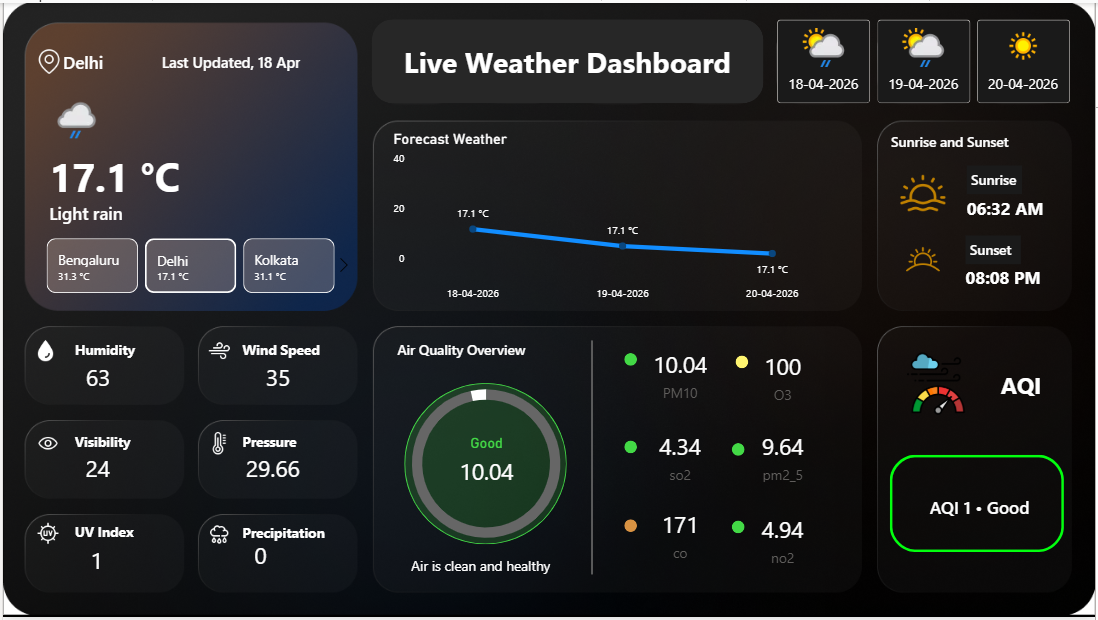

Layout of this report page (visuals, bound fields, positions):
{"tool":"powerbi","page":{"name":"Page 1","canvas":[1280,720],"ordinal":0},"visuals":[{"type":"shape","box":[470.1,445.4,190.5,189.1],"z":0},{"type":"advancedSlicerVisual","fields":{"Values":["Locations.location.name"]},"box":[26.1,270.3,388.3,74.1],"z":1000},{"type":"shape","box":[54.3,158,200.3,88.1],"z":2000},{"type":"shape","box":[54.3,232.8,200.3,26.5],"z":3000},{"type":"shape","box":[70,53.5,100.2,28.8],"z":4000},{"type":"image","box":[38.4,54.9,31.6,28.8],"z":5000},{"type":"shape","box":[186.6,54.9,197.6,30.2],"z":6000},{"type":"multiRowCard","fields":{"Values":["current.current.condition.icon"]},"box":[54.3,98.9,84.5,80.8],"z":7000},{"type":"image","box":[37,391,26.1,32.9],"z":8000},{"type":"textbox","box":[79.6,389.7,150.9,34.3],"z":9000},{"type":"image","box":[40,500,26.1,32.9],"z":10000},{"type":"textbox","box":[79.6,498.1,150.9,34.3],"z":11000},{"type":"image","box":[40,605,26.1,32.9],"z":12000},{"type":"textbox","box":[79.6,603.8,150.9,34.3],"z":13000},{"type":"image","box":[240,391,26.1,32.9],"z":14000},{"type":"textbox","box":[275.8,389.7,150.9,34.3],"z":15000},{"type":"image","box":[240,500,26.1,32.9],"z":16000},{"type":"textbox","box":[275.8,498.1,150.9,34.3],"z":17000},{"type":"image","box":[240,607,26.1,32.9],"z":18000},{"type":"textbox","box":[275.8,605.1,150.9,34.3],"z":19000},{"type":"card","fields":{"Values":["Sum(current.current.humidity)"]},"box":[49.4,410,123.5,59],"z":20000},{"type":"card","fields":{"Values":["Sum(current.current.wind_kph)"]},"box":[260.7,410.3,123.5,59],"z":21000},{"type":"card","fields":{"Values":["Sum(current.current.vis_km)"]},"box":[50.2,516.6,122.9,59.5],"z":22000},{"type":"card","fields":{"Values":["Sum(current.current.pressure_in)"]},"box":[255,516.6,122.9,59.5],"z":23000},{"type":"card","fields":{"Values":["Sum(current.current.uv)"]},"box":[48.9,623.6,122.9,59.5],"z":24000},{"type":"card","fields":{"Values":["Sum(current.current.precip_mm)"]},"box":[240.1,618.9,123.1,59.1],"z":25000},{"type":"advancedSlicerVisual","fields":{"Values":["forecast_day.Day_Name"]},"box":[901.8,15.1,353.6,108.3],"z":26000},{"type":"lineChart","title":"Forecast Weather","fields":{"Y":["Sum(forecast_day.forecast.forecastday.day.avgtemp_c)"],"Category":["forecast_day.Day_Name"]},"box":[452.4,150,524.2,209.5],"z":27000},{"type":"textbox","box":[1036.1,146.2,182.2,33.5],"z":28000},{"type":"shape","box":[1128.8,220,101,40.1],"z":29000},{"type":"shape","box":[1127.5,300,99.7,40.1],"z":30000},{"type":"textbox","box":[1128.8,190,64.7,33.7],"z":31000},{"type":"textbox","box":[1128,273.1,64.7,33.7],"z":32000},{"type":"image","box":[1044.7,196.8,67.3,53.1],"z":33000},{"type":"image","box":[1044.7,274.4,67.3,53.1],"z":34000},{"type":"cardVisual","fields":{"Data":["_Measures.AQI_Display"]},"box":[1022.4,512.5,238.5,148],"z":35000},{"type":"textbox","box":[1159.4,424.7,68.8,45.8],"z":36000},{"type":"image","box":[1044.8,406.6,97.7,77.2],"z":37000},{"type":"card","fields":{"Values":["Sum(current.current.air_quality.pm10)"]},"box":[748.3,400.2,90.4,69.9],"z":38000},{"type":"card","fields":{"Values":["Sum(current.current.air_quality.o3)"]},"box":[868.9,402.9,90.4,69.9],"z":39000},{"type":"card","fields":{"Values":["Sum(current.current.air_quality.pm2_5)"]},"box":[868.9,496.1,90.4,69.9],"z":40000},{"type":"card","fields":{"Values":["Sum(current.current.air_quality.no2)"]},"box":[868.9,593.4,90.4,69.9],"z":41000},{"type":"card","fields":{"Values":["Sum(current.current.air_quality.so2)"]},"box":[748.3,496.1,90.4,69.9],"z":42000},{"type":"card","fields":{"Values":["Sum(current.current.air_quality.co)"]},"box":[748.3,587.9,90.4,69.9],"z":43000},{"type":"shape","box":[727.7,409.8,15,15],"z":44000},{"type":"shape","box":[727.7,604.4,15,15],"z":45000},{"type":"shape","box":[727.7,512.5,15,15],"z":46000},{"type":"shape","box":[857.9,412.5,15,15],"z":47000},{"type":"shape","box":[853.8,515.3,15.1,15.1],"z":48000},{"type":"shape","box":[853.8,607.1,15.1,15.1],"z":49000},{"type":"shape","box":[683.9,396.1,12.3,274.1],"z":50000},{"type":"donutChart","fields":{"Y":["_Measures.Left_value_PM10","Sum(current.current.air_quality.pm10)"]},"box":[452.2,424.8,227.5,230.2],"z":51000},{"type":"card","fields":{"Values":["Sum(current.current.air_quality.pm10)"]},"box":[520.8,505.7,90.4,69.9],"z":52000},{"type":"textbox","box":[457.7,389.2,182.3,32.9],"z":53000},{"type":"shape","box":[434.4,644.1,249.4,27.4],"z":54000},{"type":"shape","box":[431.7,19.2,459.1,98.7],"z":55000}]}

Visuals, with their boxes in screenshot pixels (x1, y1, x2, y2), scaled from the page's 1280x720 canvas onto the 1098x620 screenshot:
shape: box(403, 384, 567, 546)
advancedSlicerVisual - Locations.location.name: box(22, 233, 355, 297)
shape: box(47, 136, 218, 212)
shape: box(47, 200, 218, 223)
shape: box(60, 46, 146, 71)
image: box(33, 47, 60, 72)
shape: box(160, 47, 330, 73)
multiRowCard - current.current.condition.icon: box(47, 85, 119, 155)
image: box(32, 337, 54, 365)
textbox: box(68, 336, 198, 365)
image: box(34, 431, 57, 459)
textbox: box(68, 429, 198, 458)
image: box(34, 521, 57, 549)
textbox: box(68, 520, 198, 549)
image: box(206, 337, 228, 365)
textbox: box(237, 336, 366, 365)
image: box(206, 431, 228, 459)
textbox: box(237, 429, 366, 458)
image: box(206, 523, 228, 551)
textbox: box(237, 521, 366, 551)
card - Sum(current.current.humidity): box(42, 353, 148, 404)
card - Sum(current.current.wind_kph): box(224, 353, 330, 404)
card - Sum(current.current.vis_km): box(43, 445, 148, 496)
card - Sum(current.current.pressure_in): box(219, 445, 324, 496)
card - Sum(current.current.uv): box(42, 537, 147, 588)
card - Sum(current.current.precip_mm): box(206, 533, 312, 584)
advancedSlicerVisual - forecast_day.Day_Name: box(774, 13, 1077, 106)
"Forecast Weather" lineChart: box(388, 129, 838, 310)
textbox: box(889, 126, 1045, 155)
shape: box(968, 189, 1055, 224)
shape: box(967, 258, 1053, 293)
textbox: box(968, 164, 1024, 193)
textbox: box(968, 235, 1023, 264)
image: box(896, 169, 954, 215)
image: box(896, 236, 954, 282)
cardVisual - _Measures.AQI_Display: box(877, 441, 1082, 569)
textbox: box(995, 366, 1054, 405)
image: box(896, 350, 980, 417)
card - Sum(current.current.air_quality.pm10): box(642, 345, 719, 405)
card - Sum(current.current.air_quality.o3): box(745, 347, 823, 407)
card - Sum(current.current.air_quality.pm2_5): box(745, 427, 823, 487)
card - Sum(current.current.air_quality.no2): box(745, 511, 823, 571)
card - Sum(current.current.air_quality.so2): box(642, 427, 719, 487)
card - Sum(current.current.air_quality.co): box(642, 506, 719, 566)
shape: box(624, 353, 637, 366)
shape: box(624, 520, 637, 533)
shape: box(624, 441, 637, 454)
shape: box(736, 355, 749, 368)
shape: box(732, 444, 745, 457)
shape: box(732, 523, 745, 536)
shape: box(587, 341, 597, 577)
donutChart - _Measures.Left_value_PM10 x Sum(current.current.air_quality.pm10): box(388, 366, 583, 564)
card - Sum(current.current.air_quality.pm10): box(447, 435, 524, 496)
textbox: box(393, 335, 549, 363)
shape: box(373, 555, 587, 578)
shape: box(370, 17, 764, 102)
